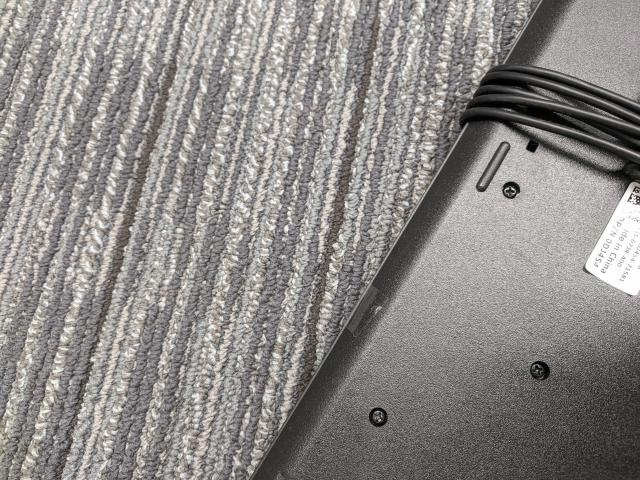CRS: (369, 408, 388, 426), (502, 182, 520, 200), (529, 360, 548, 377)
